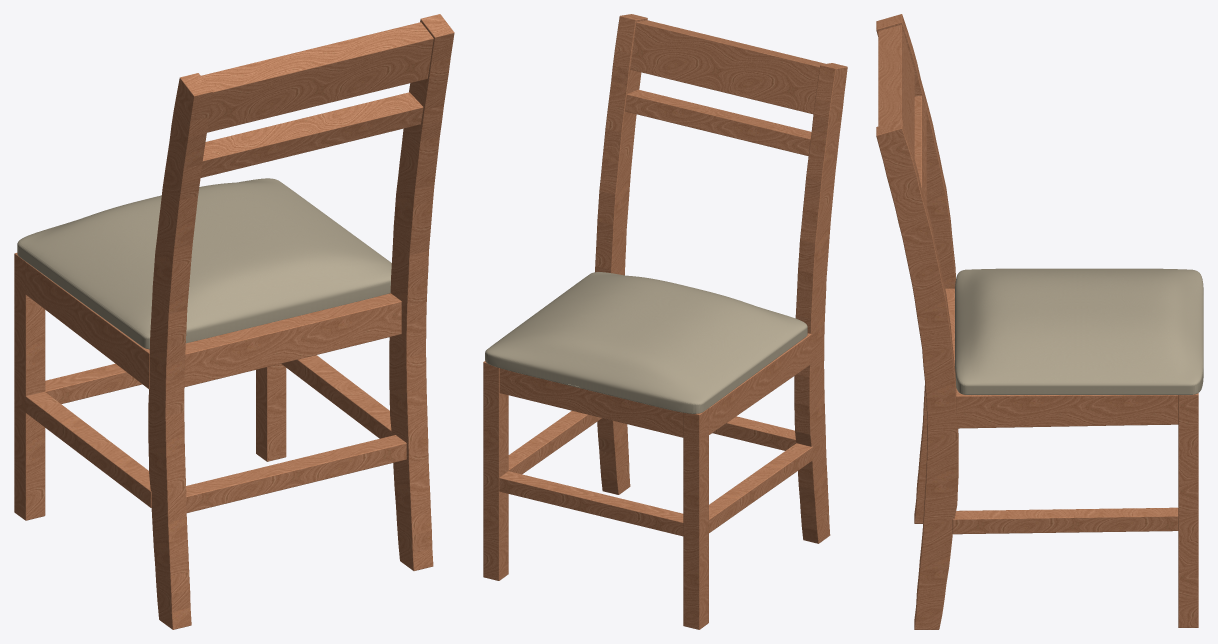
Rendered from chair 2.obj.
3 views of the same model, side by side, from view 1: azimuth 30°, elevation 25°; view 2: azimuth 150°, elevation 25°; view 3: azimuth 270°, elevation 25° (orthographic). The views are drawn at different scales.
Parts seen in each view (by area): view 1: Mesh15 chair_leat1 Group1 Model, Mesh13 chair_fram1 Group1 Model, Mesh14 chair_fram1 Group1 Model, Mesh2 chair_fram1 Group1 Model, Mesh6 chair_fram1 Group1 Model, Mesh1 chair_fram1 Group1 Model, Mesh11 chair_fram1 Group1 Model, Mesh4 chair_fram1 Group1 Model, Mesh9 chair_fram1 Group1 Model, Mesh7 chair_fram1 Group1 Model, Mesh8 chair_fram1 Group1 Model, Mesh12 chair_fram1 Group1 Model (+1 smaller); view 2: Mesh15 chair_leat1 Group1 Model, Mesh13 chair_fram1 Group1 Model, Mesh2 chair_fram1 Group1 Model, Mesh14 chair_fram1 Group1 Model, Mesh11 chair_fram1 Group1 Model, Mesh12 chair_fram1 Group1 Model, Mesh1 chair_fram1 Group1 Model, Mesh5 chair_fram1 Group1 Model, Mesh3 chair_fram1 Group1 Model, Mesh9 chair_fram1 Group1 Model, Mesh7 chair_fram1 Group1 Model, Mesh8 chair_fram1 Group1 Model (+1 smaller); view 3: Mesh15 chair_leat1 Group1 Model, Mesh14 chair_fram1 Group1 Model, Mesh10 chair_fram1 Group1 Model, Mesh8 chair_fram1 Group1 Model, Mesh12 chair_fram1 Group1 Model, Mesh13 chair_fram1 Group1 Model, Mesh2 chair_fram1 Group1 Model, Mesh1 chair_fram1 Group1 Model.
Part boxes in pixels (left/top/right/bottom): Mesh15 chair_leat1 Group1 Model: left=17, top=178, right=391, bottom=349; Mesh13 chair_fram1 Group1 Model: left=148, top=73, right=212, bottom=629; Mesh14 chair_fram1 Group1 Model: left=389, top=14, right=454, bottom=570; Mesh2 chair_fram1 Group1 Model: left=201, top=22, right=433, bottom=132; Mesh6 chair_fram1 Group1 Model: left=184, top=293, right=401, bottom=386; Mesh1 chair_fram1 Group1 Model: left=200, top=92, right=423, bottom=177; Mesh11 chair_fram1 Group1 Model: left=14, top=253, right=45, bottom=520; Mesh4 chair_fram1 Group1 Model: left=186, top=435, right=406, bottom=512; Mesh9 chair_fram1 Group1 Model: left=25, top=262, right=149, bottom=389; Mesh7 chair_fram1 Group1 Model: left=25, top=391, right=151, bottom=507; Mesh8 chair_fram1 Group1 Model: left=281, top=355, right=391, bottom=438; Mesh12 chair_fram1 Group1 Model: left=256, top=364, right=286, bottom=461; Mesh15 chair_leat1 Group1 Model: left=485, top=272, right=807, bottom=413; Mesh13 chair_fram1 Group1 Model: left=794, top=63, right=847, bottom=543; Mesh2 chair_fram1 Group1 Model: left=630, top=20, right=825, bottom=114; Mesh14 chair_fram1 Group1 Model: left=595, top=14, right=647, bottom=494; Mesh11 chair_fram1 Group1 Model: left=683, top=408, right=708, bottom=629; Mesh12 chair_fram1 Group1 Model: left=483, top=361, right=508, bottom=580; Mesh1 chair_fram1 Group1 Model: left=625, top=89, right=811, bottom=156; Mesh5 chair_fram1 Group1 Model: left=499, top=368, right=683, bottom=437; Mesh3 chair_fram1 Group1 Model: left=499, top=471, right=683, bottom=536; Mesh9 chair_fram1 Group1 Model: left=709, top=333, right=811, bottom=434; Mesh7 chair_fram1 Group1 Model: left=709, top=443, right=812, bottom=532; Mesh8 chair_fram1 Group1 Model: left=508, top=411, right=601, bottom=474; Mesh15 chair_leat1 Group1 Model: left=955, top=268, right=1203, bottom=394; Mesh14 chair_fram1 Group1 Model: left=876, top=119, right=958, bottom=629; Mesh10 chair_fram1 Group1 Model: left=956, top=388, right=1178, bottom=428; Mesh8 chair_fram1 Group1 Model: left=952, top=507, right=1178, bottom=534; Mesh12 chair_fram1 Group1 Model: left=1178, top=393, right=1198, bottom=627; Mesh13 chair_fram1 Group1 Model: left=876, top=14, right=955, bottom=523; Mesh2 chair_fram1 Group1 Model: left=878, top=25, right=914, bottom=158; Mesh1 chair_fram1 Group1 Model: left=914, top=95, right=926, bottom=204.
Bounding box in the file's own units: 98.11 × 200 × 118.
2 materials, 2 textured.
